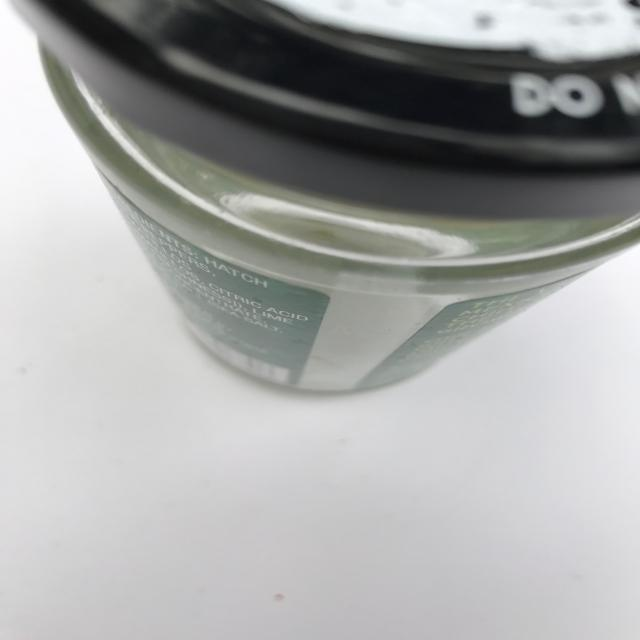glass: (6, 1, 640, 398)
